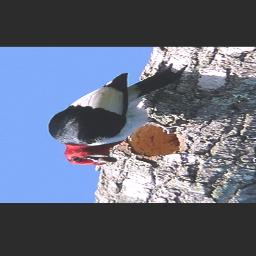Woodpecker: (43, 60, 197, 172)
